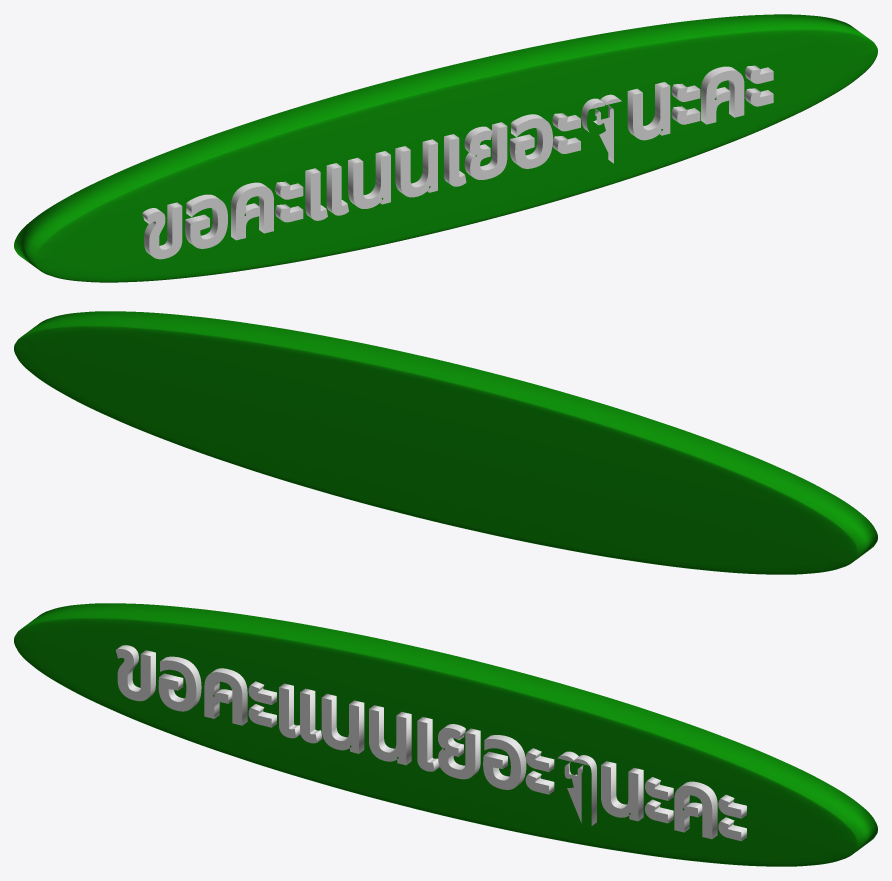
File: score.glb
3 renders of one model, top to bottom at view 1: azimuth 30°, elevation 25°; view 2: azimuth 150°, elevation 25°; view 3: azimuth 330°, elevation 25°, orthographic.
Visible parts, largest first — view 1: Cylinder, Text.001; view 2: Cylinder; view 3: Cylinder, Text.001.
Part boxes in pixels (left/top/right/bottom): Cylinder: left=14, top=14, right=877, bottom=282; Text.001: left=142, top=65, right=773, bottom=259; Cylinder: left=14, top=311, right=877, bottom=574; Cylinder: left=14, top=603, right=877, bottom=866; Text.001: left=115, top=645, right=746, bottom=841.
Bounding box in the file's own units: 9.21 × 1.5 × 0.5392.
